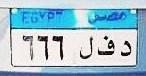6: (50, 34, 65, 61), (35, 34, 49, 62), (22, 34, 35, 61)
daal: (118, 37, 132, 60)
faa: (96, 34, 116, 59)
laam: (78, 35, 94, 61)
